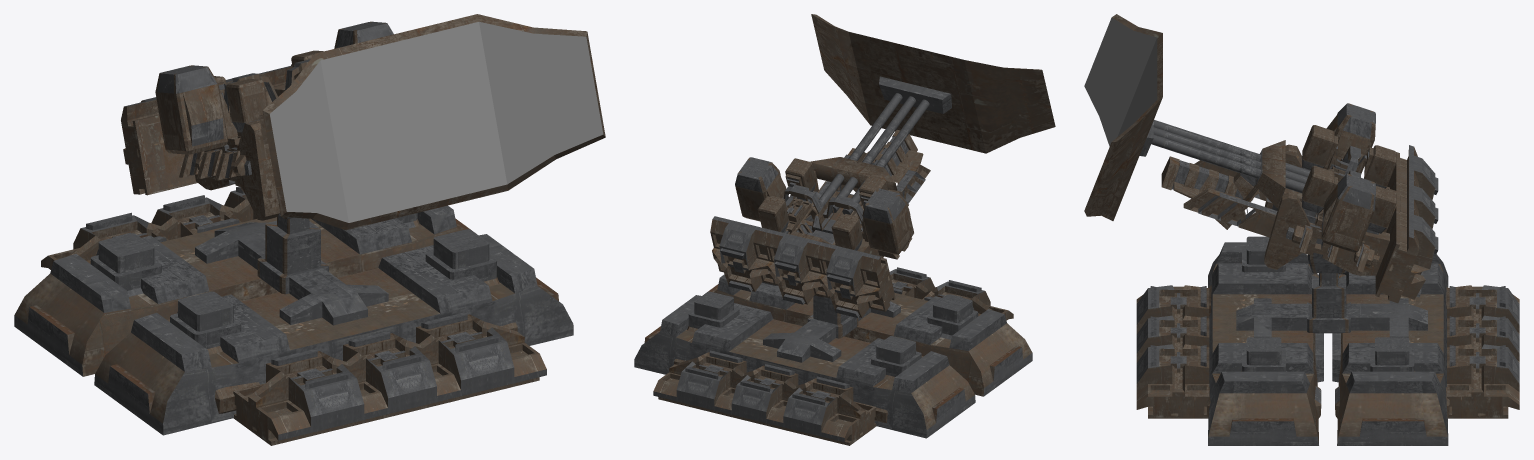
The model's file is Main_Satalitenstation.gltf.
3 views of the same model, side by side, from view 1: azimuth 30°, elevation 25°; view 2: azimuth 150°, elevation 25°; view 3: azimuth 270°, elevation 25° (orthographic). The views are drawn at different scales.
Visible parts, largest first — view 1: Main_Satalitenstation_Base_Part, Main_Satalitenstation_Top; view 2: Main_Satalitenstation_Base_Part, Main_Satalitenstation_Top; view 3: Main_Satalitenstation_Base_Part, Main_Satalitenstation_Top.
Boxes of the visible parts, x1,y1,x2,y2 form: Main_Satalitenstation_Base_Part: (14,186,573,445); Main_Satalitenstation_Top: (121,14,605,230); Main_Satalitenstation_Base_Part: (634,267,1032,445); Main_Satalitenstation_Top: (710,14,1055,317); Main_Satalitenstation_Base_Part: (1136,236,1519,445); Main_Satalitenstation_Top: (1084,14,1438,303).
Bounding box in the file's own units: 7.11 × 6.17 × 8.1.
